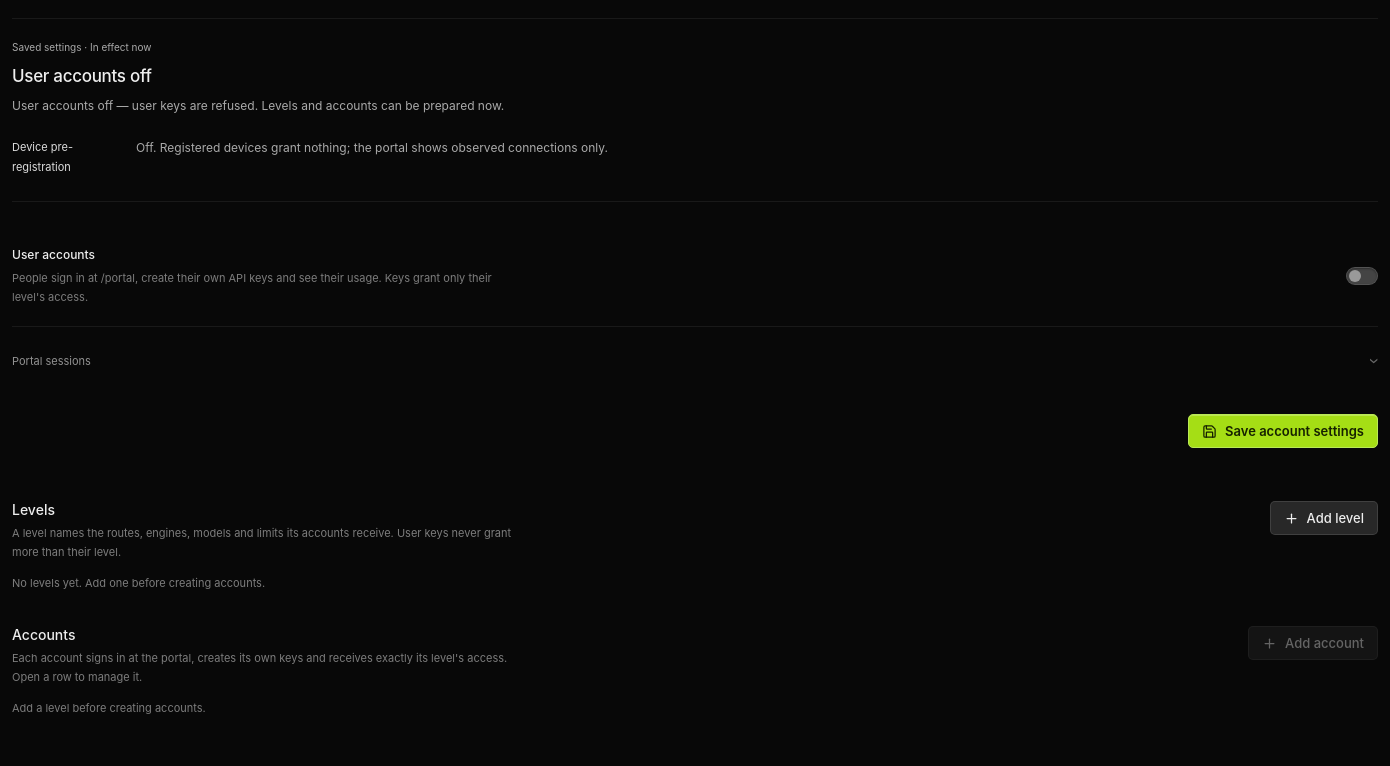
Test: Accounts settings › accounts switch is off by default and the device switch is hidden until accounts are on
Check: the switch labelled "Allow device pre-registration (dev mode)" is not shown
Click the switch named "User accounts" at (1362, 276), box x1=1346 y1=267 x2=1378 y2=285
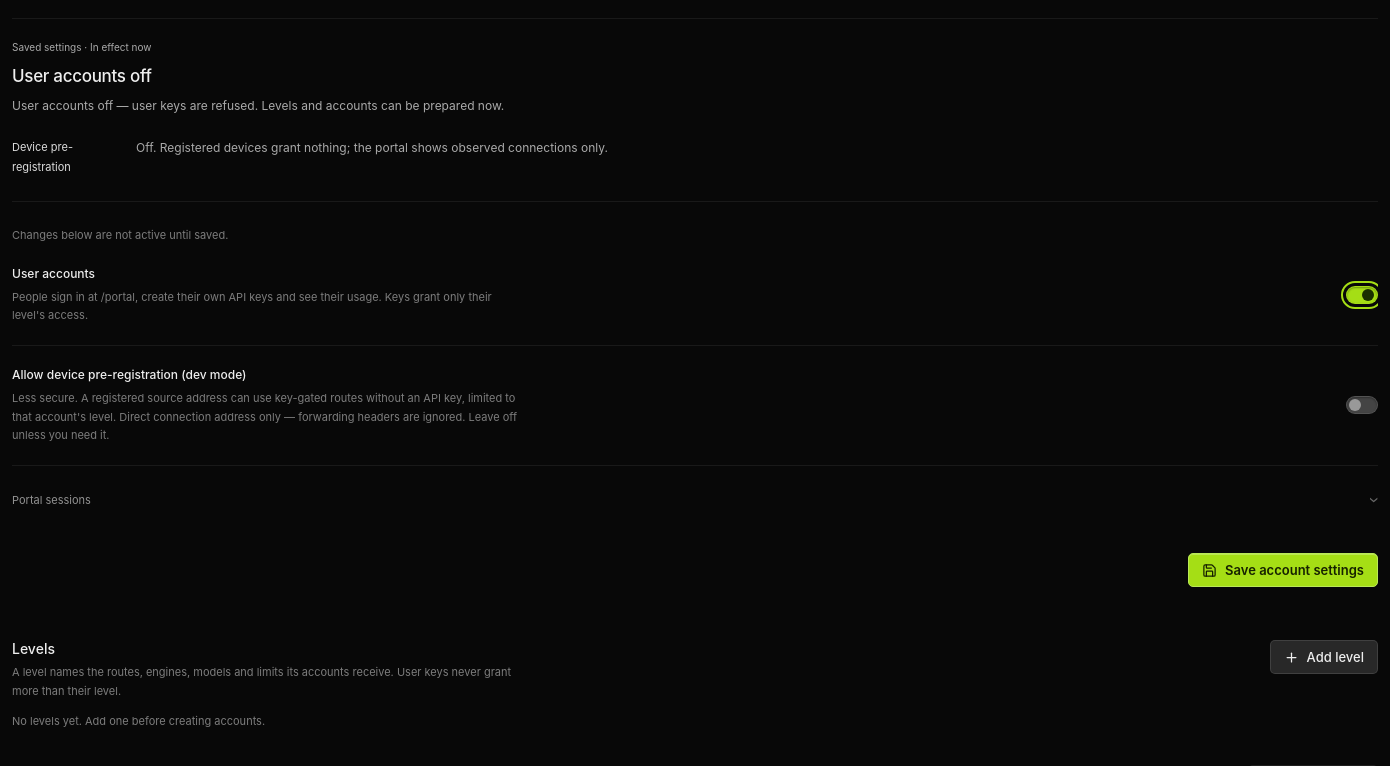
Check: the text "Less secure." is shown, box x1=12 y1=391 x2=517 y2=442
Check: the text "Changes below are not active until saved." is shown, box x1=12 y1=228 x2=228 y2=242
